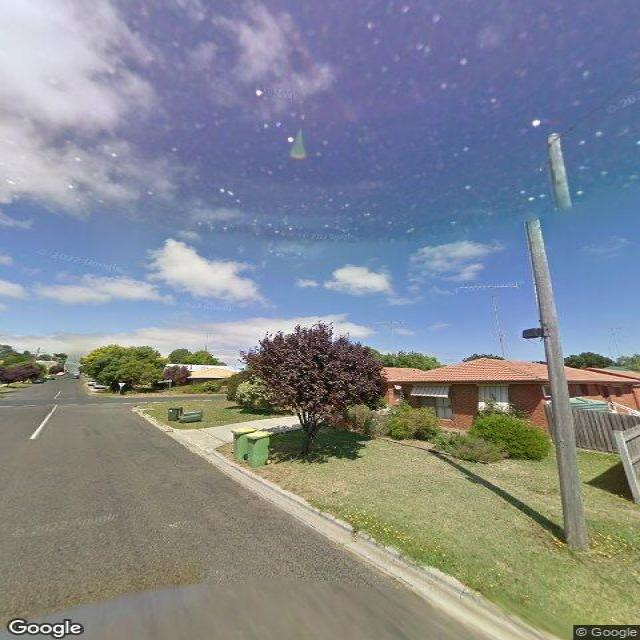timber-pole: (523, 133, 589, 551)
